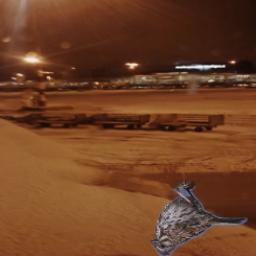Sparrow: (150, 181, 247, 256)
